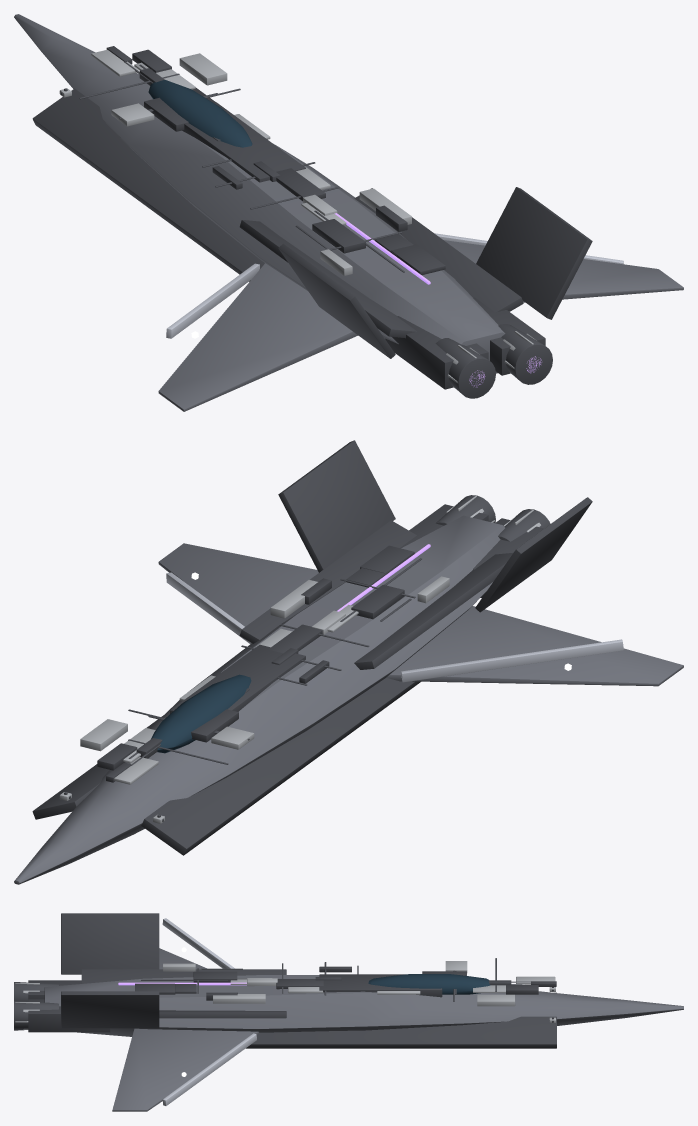
The model's file is ship_specter.glb.
3 renders of one model, top to bottom at view 1: azimuth 30°, elevation 25°; view 2: azimuth 150°, elevation 25°; view 3: azimuth 270°, elevation 25°, orthographic. The views are drawn at different scales.
Visible parts, largest first — view 1: Specter; view 2: Specter; view 3: Specter.
Boxes of the visible parts, x1=… form: Specter: x1=14, y1=14, x2=683, y2=411; Specter: x1=14, y1=440, x2=683, y2=884; Specter: x1=14, y1=913, x2=683, y2=1111.
Bounding box in the file's own units: 9.66 × 2.13 × 16.35.
